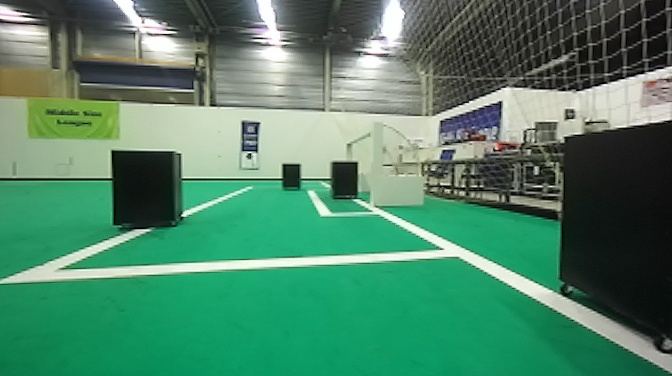goalpost: (368, 120, 382, 209), (341, 142, 352, 159)
